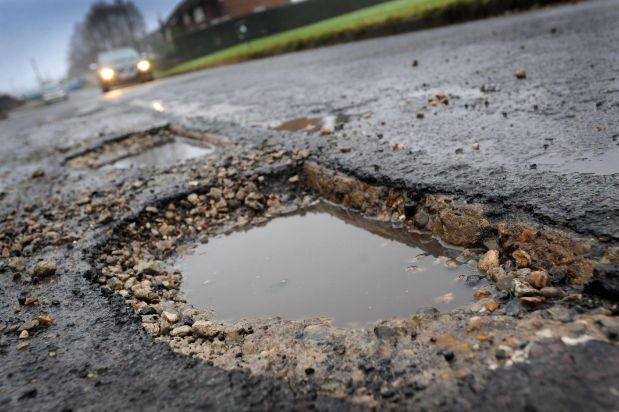pothole: (78, 156, 611, 382), (63, 122, 228, 172)
